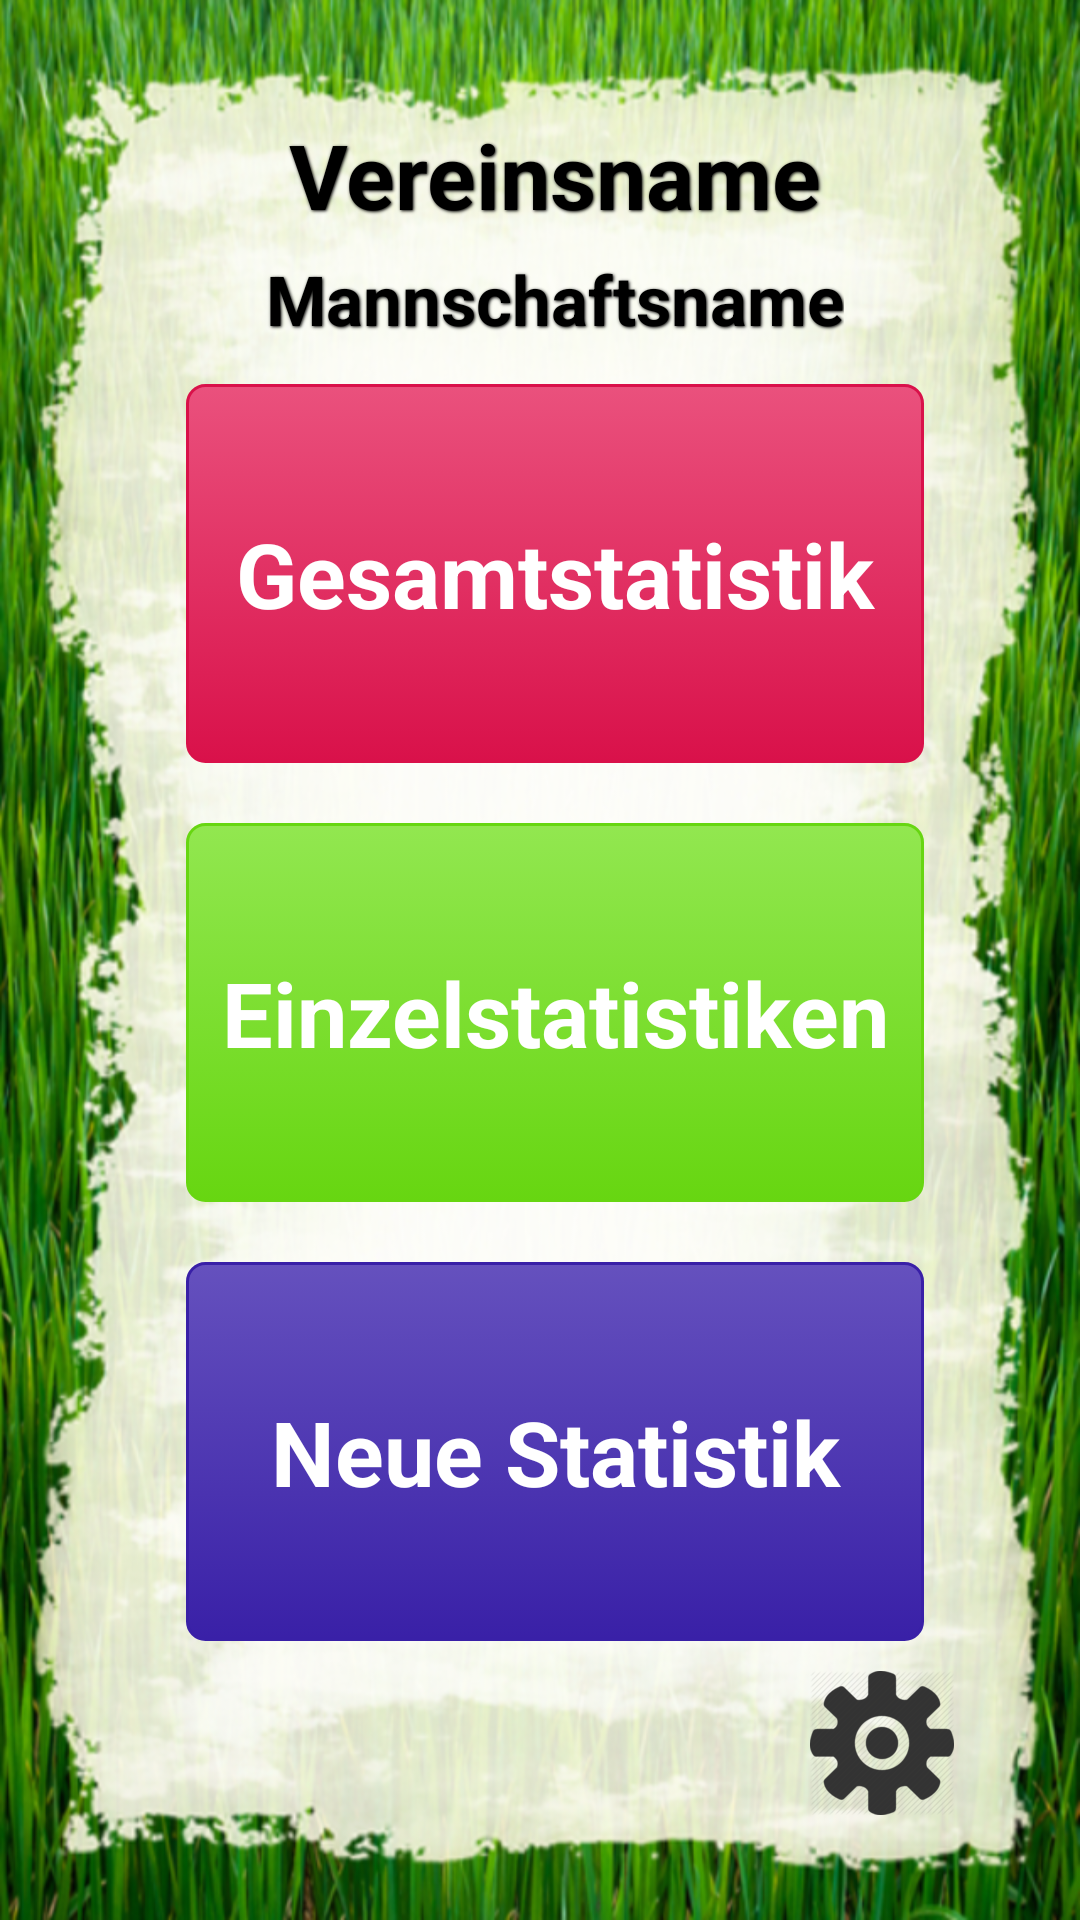

Icon click points for this 1080x1920 phone screenshot, format (x,y):
config: (882,1743)
